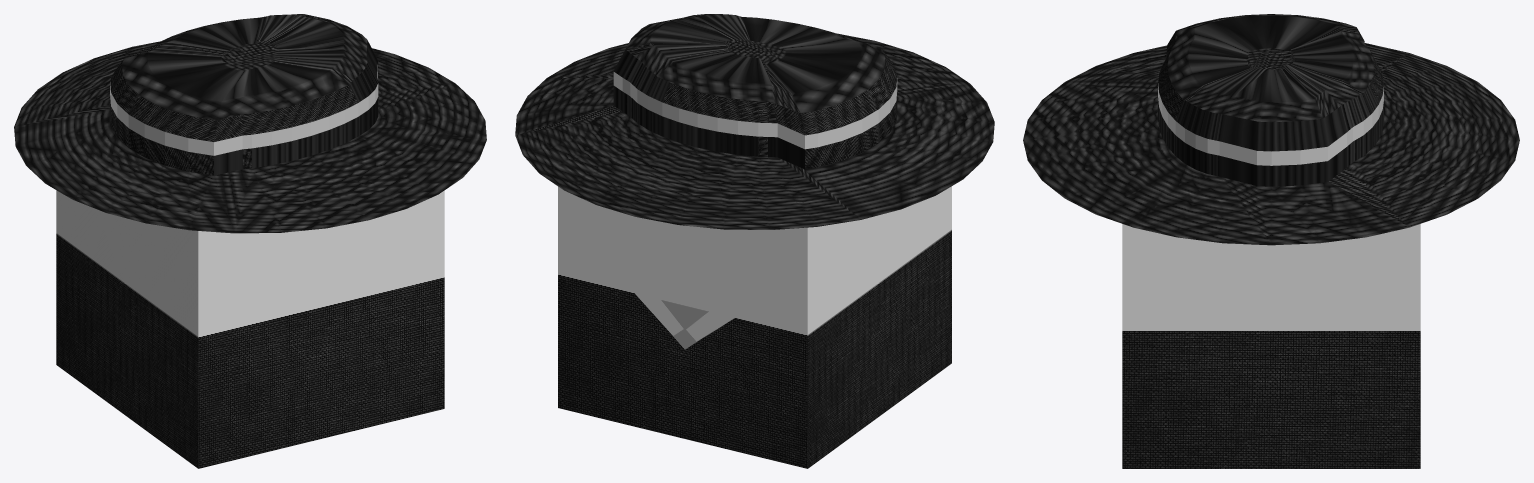
File: BadGuy.fbx
3 views of the same model, side by side, from view 1: azimuth 30°, elevation 25°; view 2: azimuth 150°, elevation 25°; view 3: azimuth 270°, elevation 25° (orthographic). The views are drawn at different scales.
Visible parts, largest first — view 1: Cube, Cylinder; view 2: Cube, Cylinder; view 3: Cylinder, Cube.
Part boxes in pixels (<box>): Cube: <box>56,190,444,468</box>; Cylinder: <box>14,14,486,233</box>; Cube: <box>558,186,951,468</box>; Cylinder: <box>515,14,994,229</box>; Cylinder: <box>1023,14,1519,245</box>; Cube: <box>1122,224,1420,468</box>.
Bounding box in the file's own units: 567 × 444 × 567.
